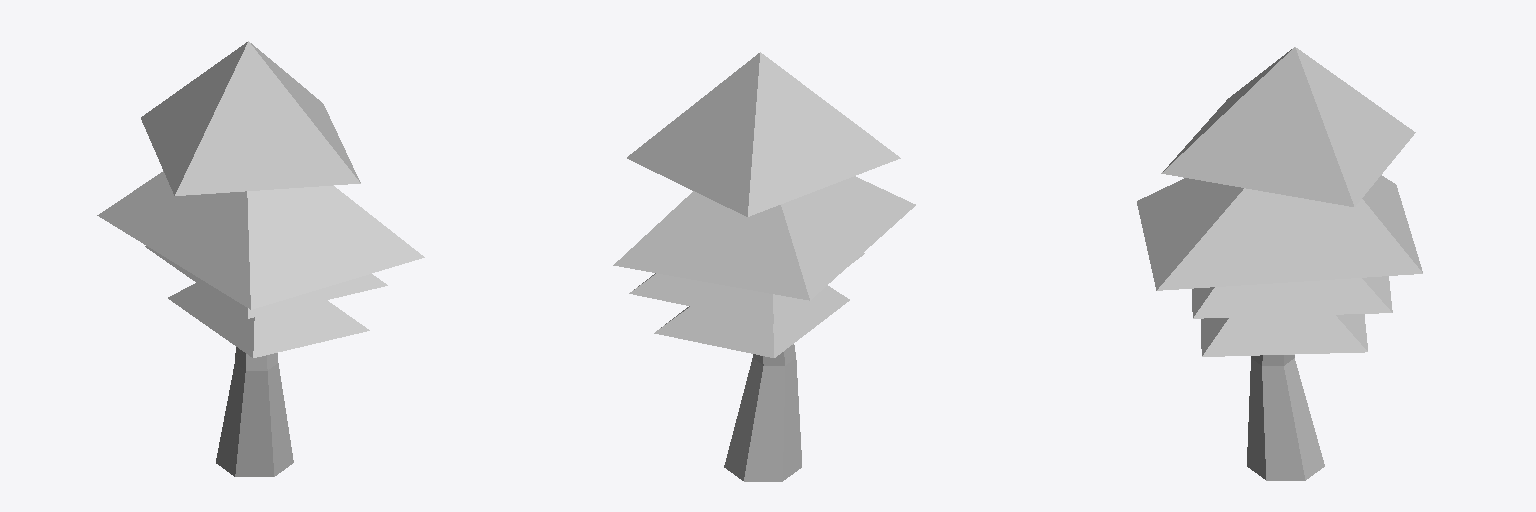
Rendered from tree07.obj.
3 renders of one model, left to right at view 1: azimuth 30°, elevation 25°; view 2: azimuth 150°, elevation 25°; view 3: azimuth 270°, elevation 25°, orthographic.
Visible parts, largest first — view 1: Converted_object_1; view 2: Converted_object_1; view 3: Converted_object_1.
Boxes of the visible parts, x1,y1,x2,y2 form: Converted_object_1: [97, 41, 424, 476]; Converted_object_1: [613, 52, 915, 481]; Converted_object_1: [1137, 47, 1422, 480].
Bounding box in the file's own units: 4.66 × 8.68 × 5.39.